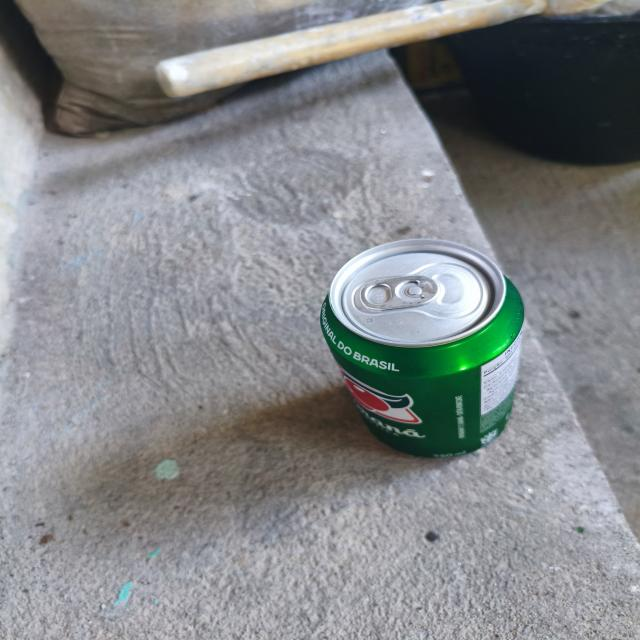Guarana: (310, 237, 530, 478)
